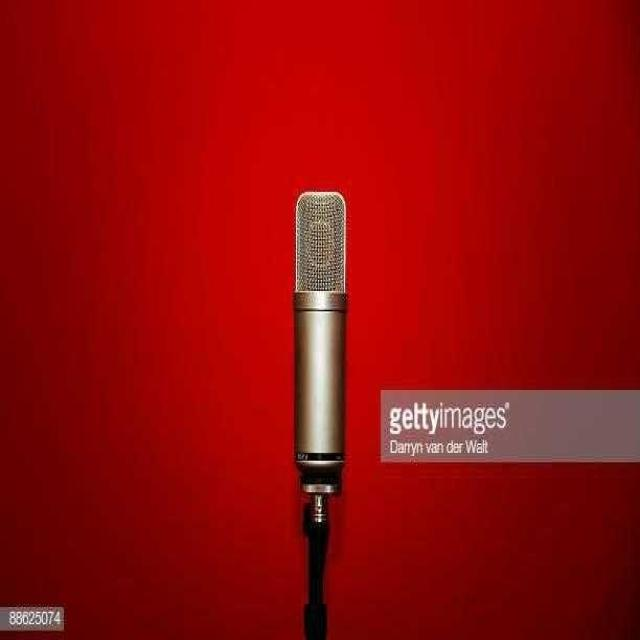microphone: (291, 184, 351, 640)
